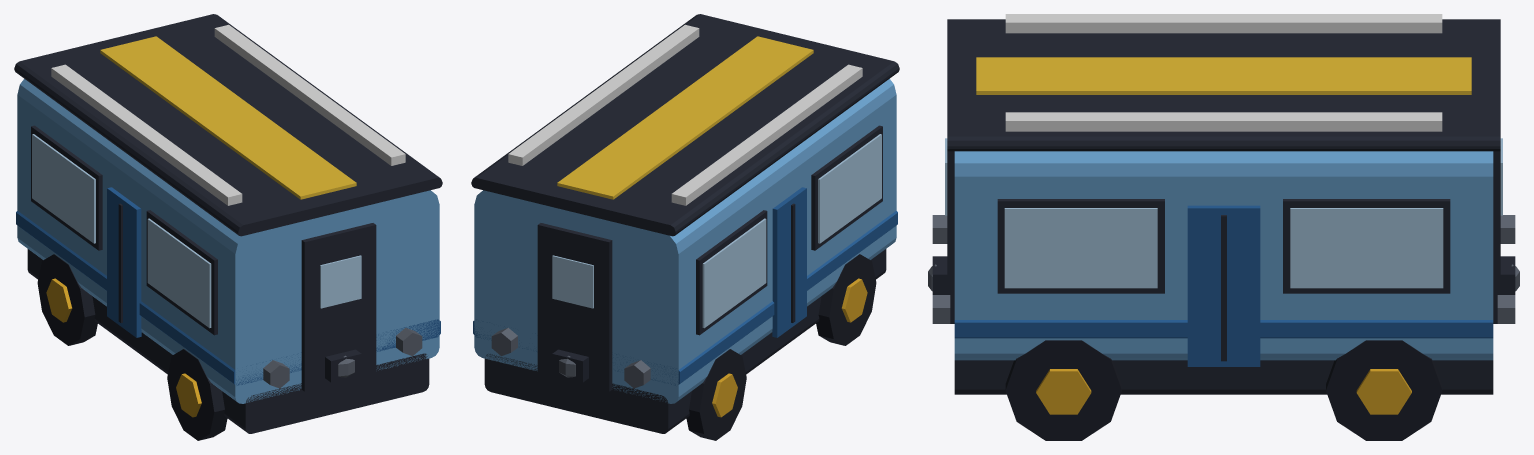
Rendered from train_ride_ice.glb.
3 renders of one model, left to right at view 1: azimuth 30°, elevation 25°; view 2: azimuth 150°, elevation 25°; view 3: azimuth 270°, elevation 25°, orthographic. The views are drawn at different scales.
Visible parts, largest first — view 1: train_ride_ice; view 2: train_ride_ice; view 3: train_ride_ice.
Boxes of the visible parts, x1=… form: train_ride_ice: x1=14, y1=14, x2=442, y2=440; train_ride_ice: x1=471, y1=14, x2=899, y2=440; train_ride_ice: x1=928, y1=14, x2=1519, y2=440.
Bounding box in the file's own units: 2.13 × 2.36 × 4.06.
